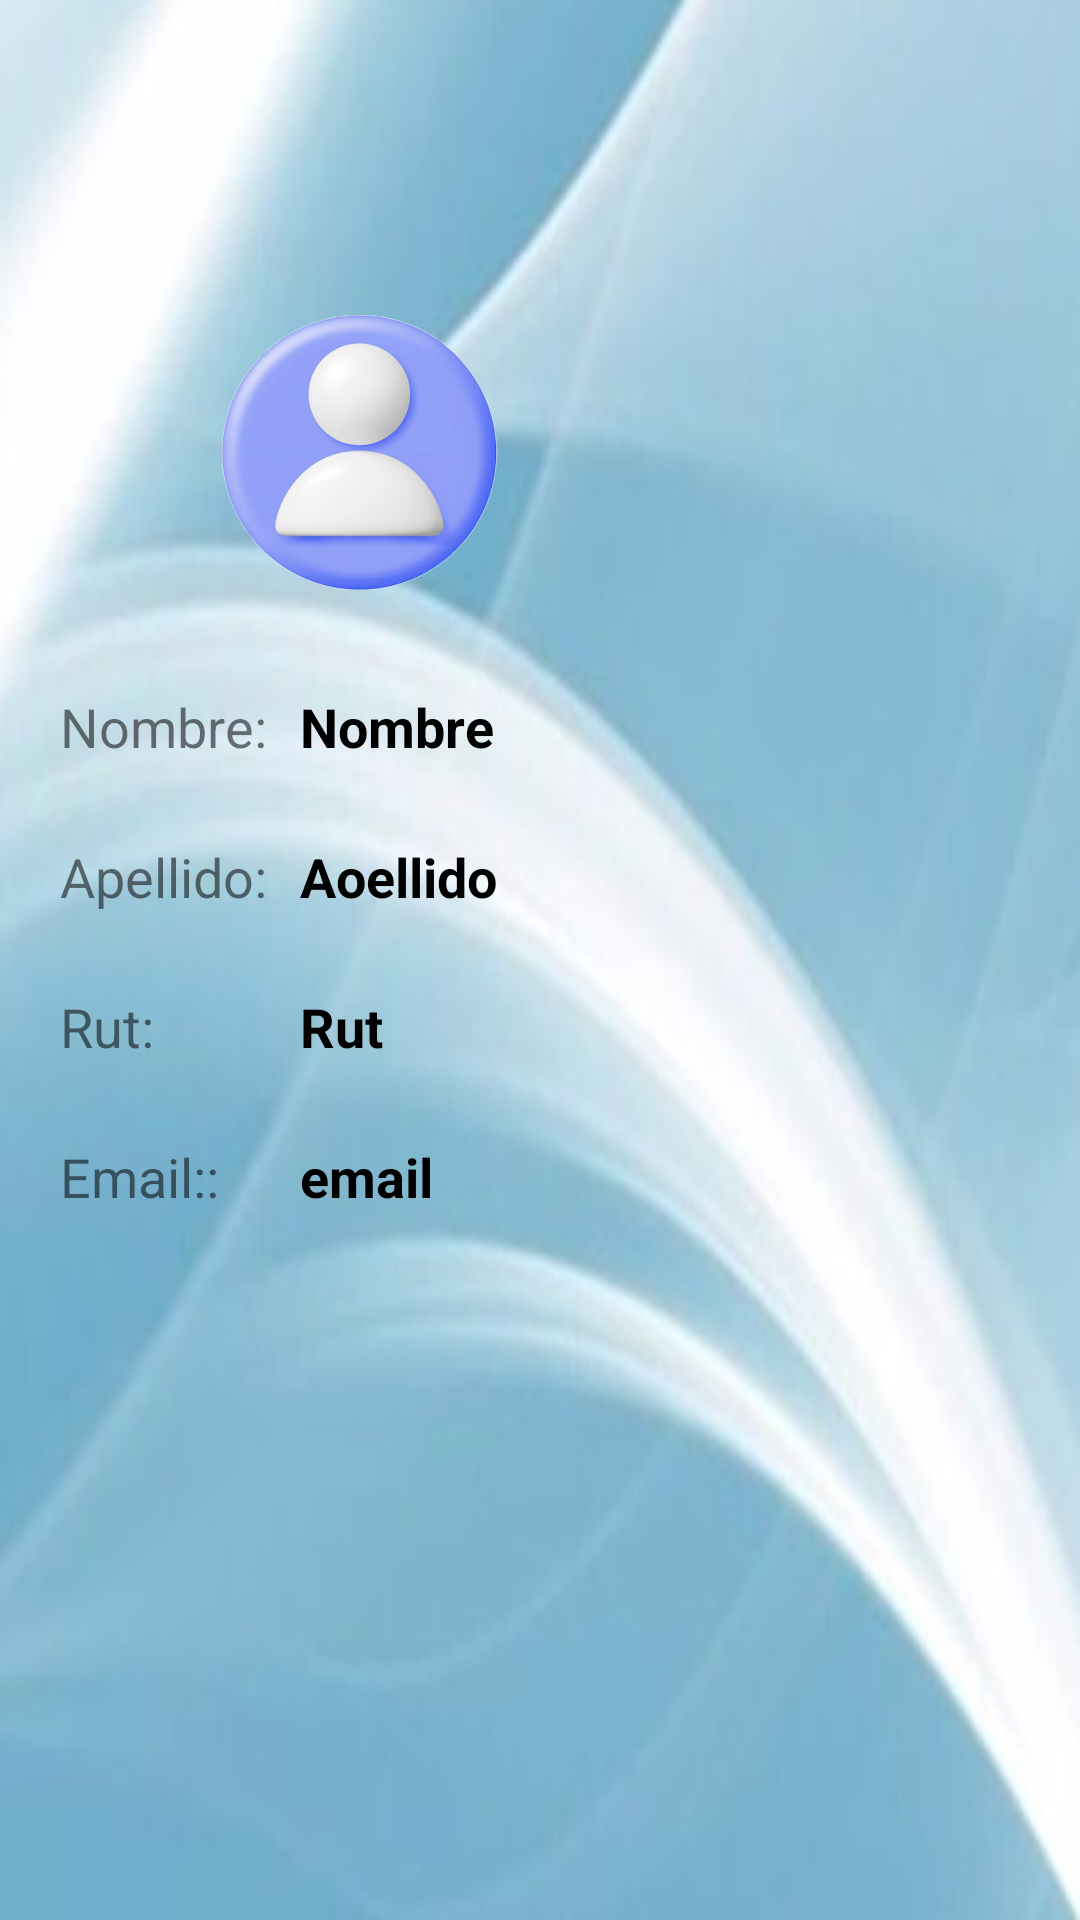

Icons on this 1080px x 1920px Android screen, each with the point to tap as [x,y]:
usuario: [360,450]
